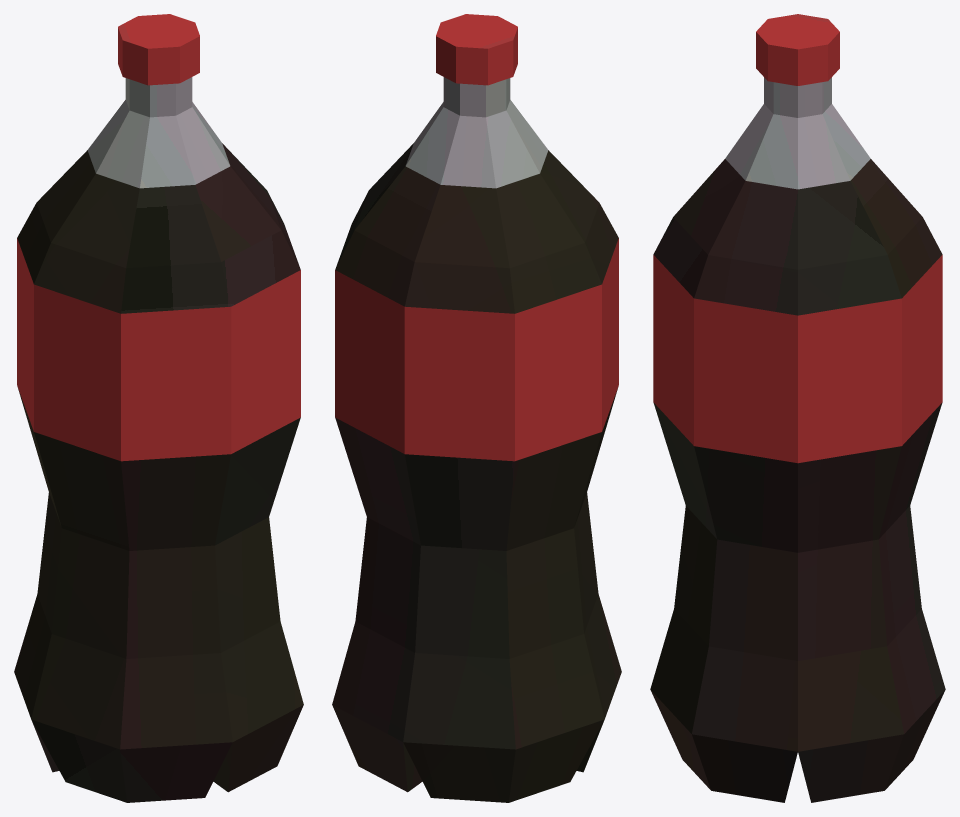
The model's file is cola.gltf.
3 views of the same model, side by side, from view 1: azimuth 30°, elevation 25°; view 2: azimuth 150°, elevation 25°; view 3: azimuth 270°, elevation 25° (orthographic).
Visible parts, largest first — view 1: node-0; view 2: node-0; view 3: node-0.
Part boxes in pixels (box(x1,y1,x2,y2)): node-0: box(14, 14, 303, 802); node-0: box(332, 14, 621, 802); node-0: box(650, 14, 945, 802).
Size of the model in its own units: 0.9517 by 2.57 by 0.9517.
Materials: 1 (1 with a texture image).
